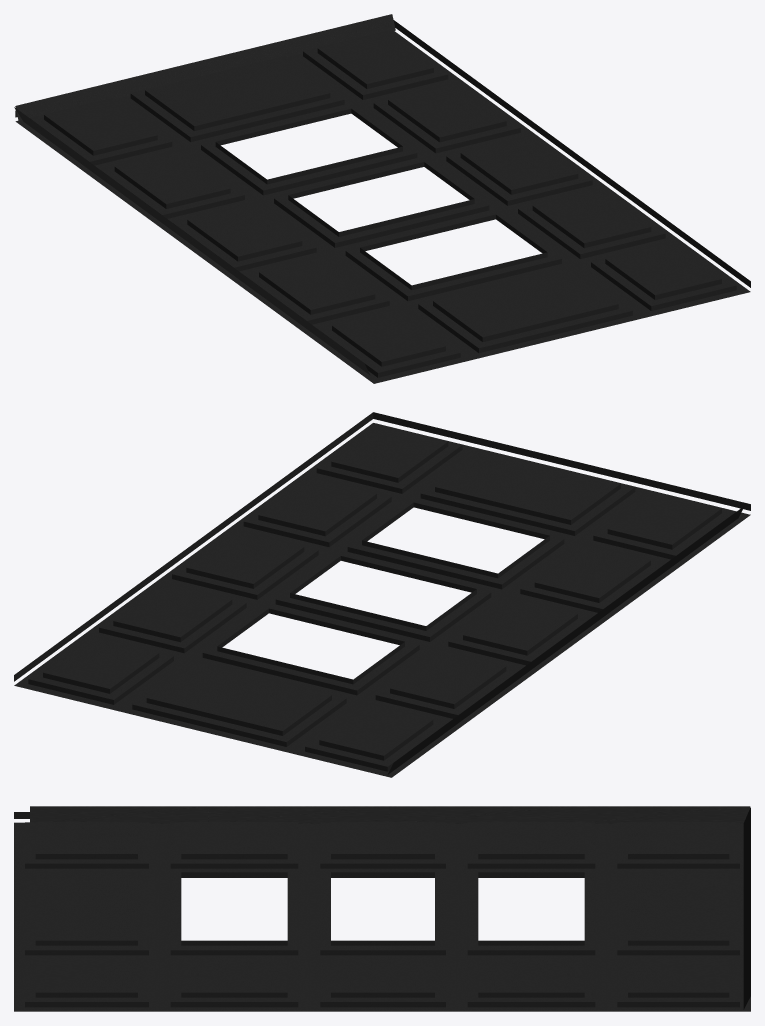
The model's file is only wall.FBX.
3 views of the same model, one above another, from view 1: azimuth 30°, elevation 25°; view 2: azimuth 150°, elevation 25°; view 3: azimuth 270°, elevation 25° (orthographic). The views are drawn at different scales.
Visible parts, largest first — view 1: hall1_walls; view 2: hall1_walls; view 3: hall1_walls.
Boxes of the visible parts, x1,y1,x2,y2 form: hall1_walls: (14, 14, 750, 383); hall1_walls: (14, 412, 750, 777); hall1_walls: (14, 806, 750, 1011).
Size of the model in its own units: 976 by 38.03 by 1602.
Materials: 1 (1 with a texture image).
